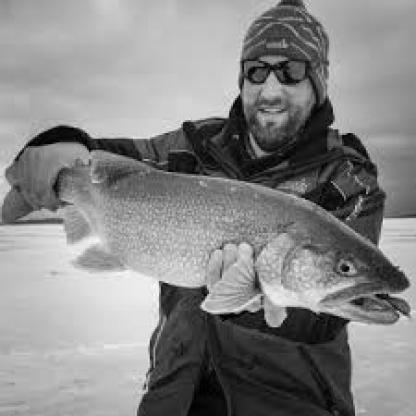fish: (0, 152, 414, 326)
